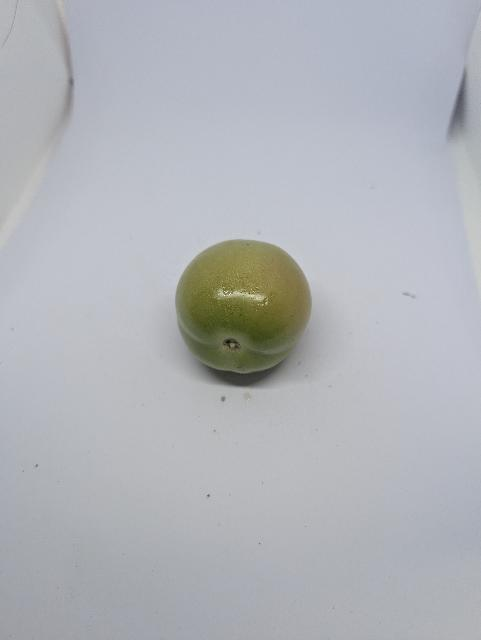green: (173, 234, 315, 378)
